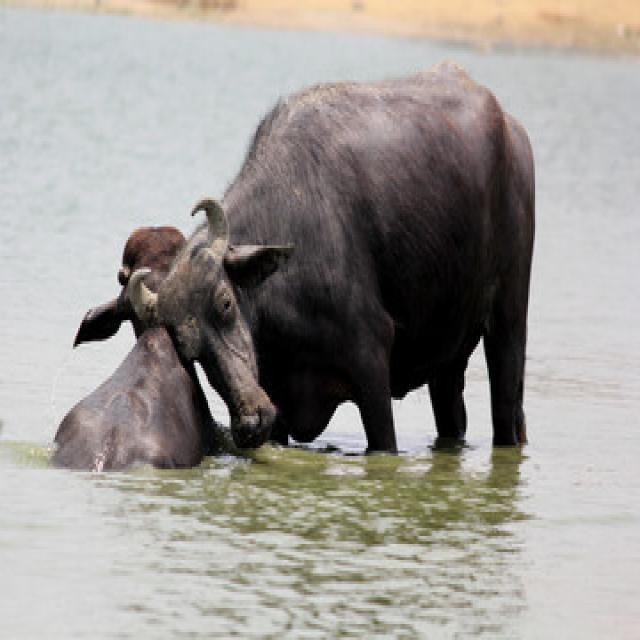Buffalo: (127, 67, 531, 448)
